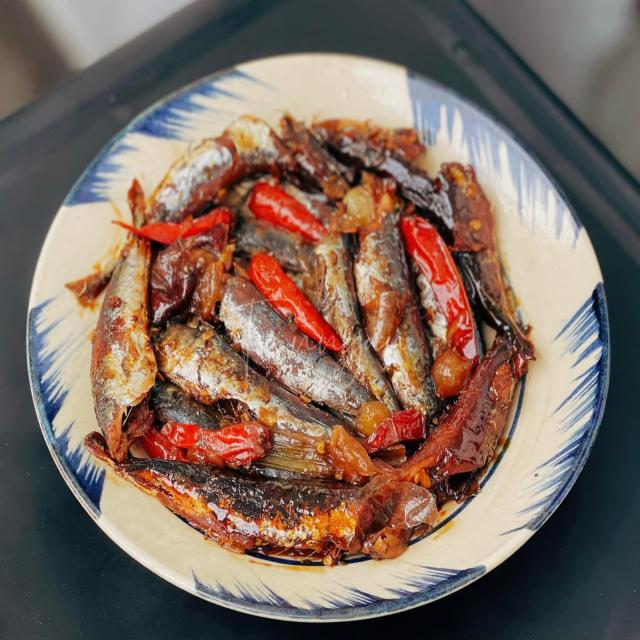ca kho: (84, 115, 533, 564)
ot: (401, 215, 478, 359), (249, 254, 343, 352), (161, 421, 271, 469), (248, 182, 327, 242), (112, 207, 232, 244)
